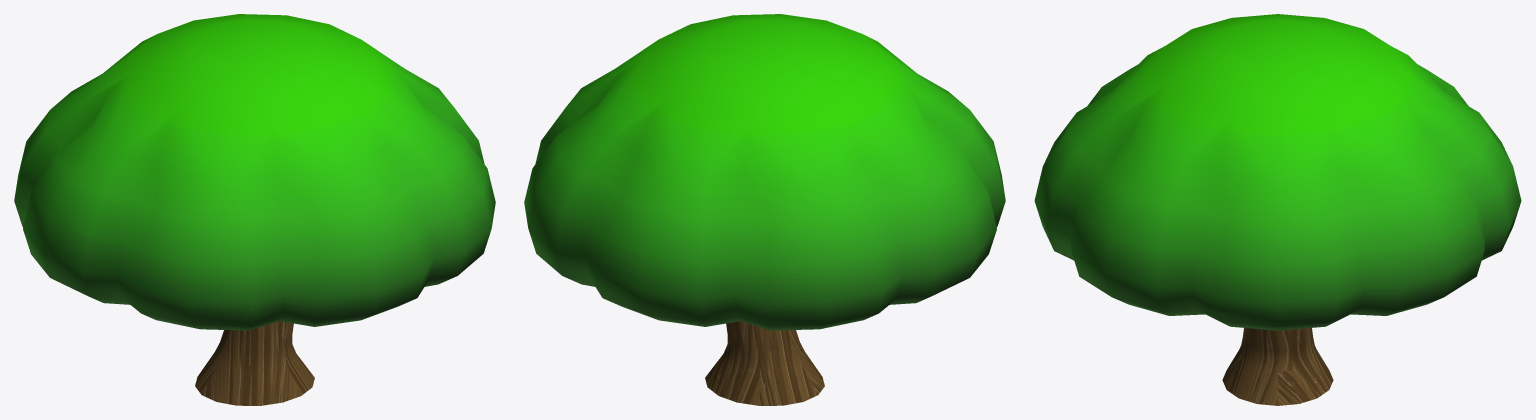
Rendered from PohonBiasa.fbx.
3 views of the same model, side by side, from view 1: azimuth 30°, elevation 25°; view 2: azimuth 150°, elevation 25°; view 3: azimuth 270°, elevation 25° (orthographic).
Parts seen in each view (by area): view 1: Circle.002; view 2: Circle.002; view 3: Circle.002.
Boxes of the visible parts, x1,y1,x2,y2 form: Circle.002: (14, 14, 495, 405); Circle.002: (524, 14, 1005, 405); Circle.002: (1034, 14, 1521, 405).
Bounding box in the file's own units: 375 × 287 × 375.
